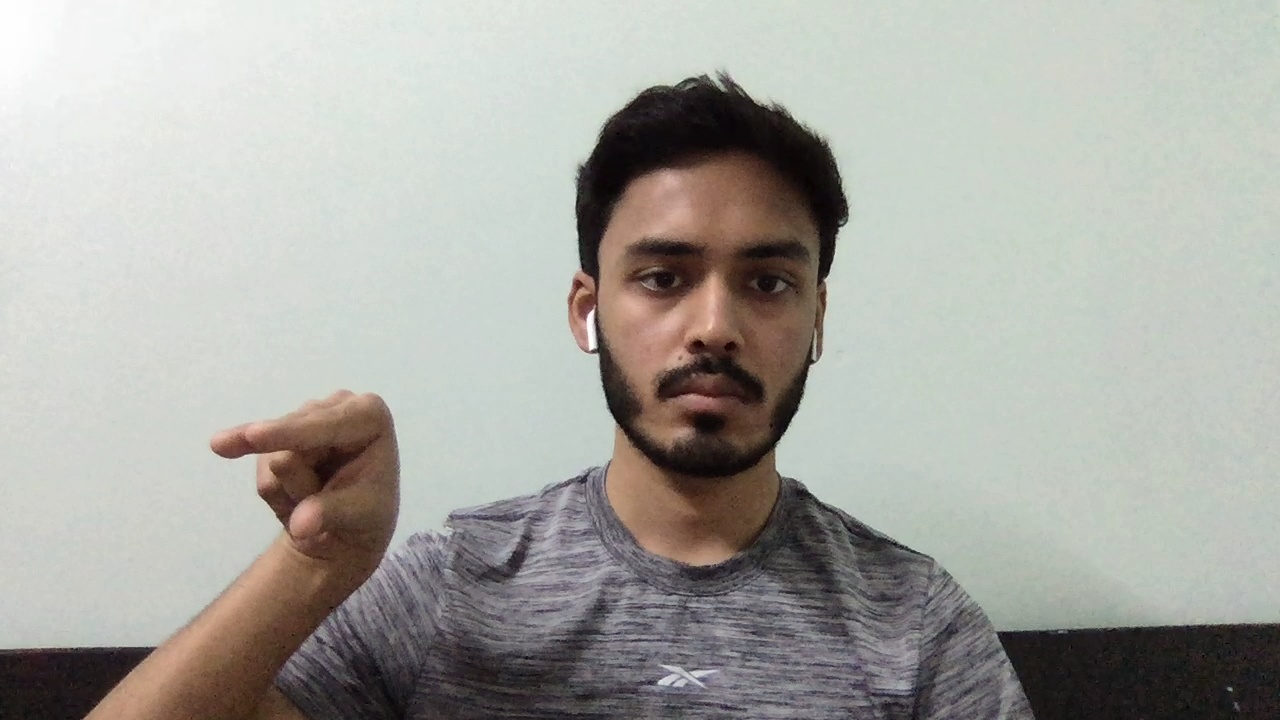No: (192, 374, 428, 594)
